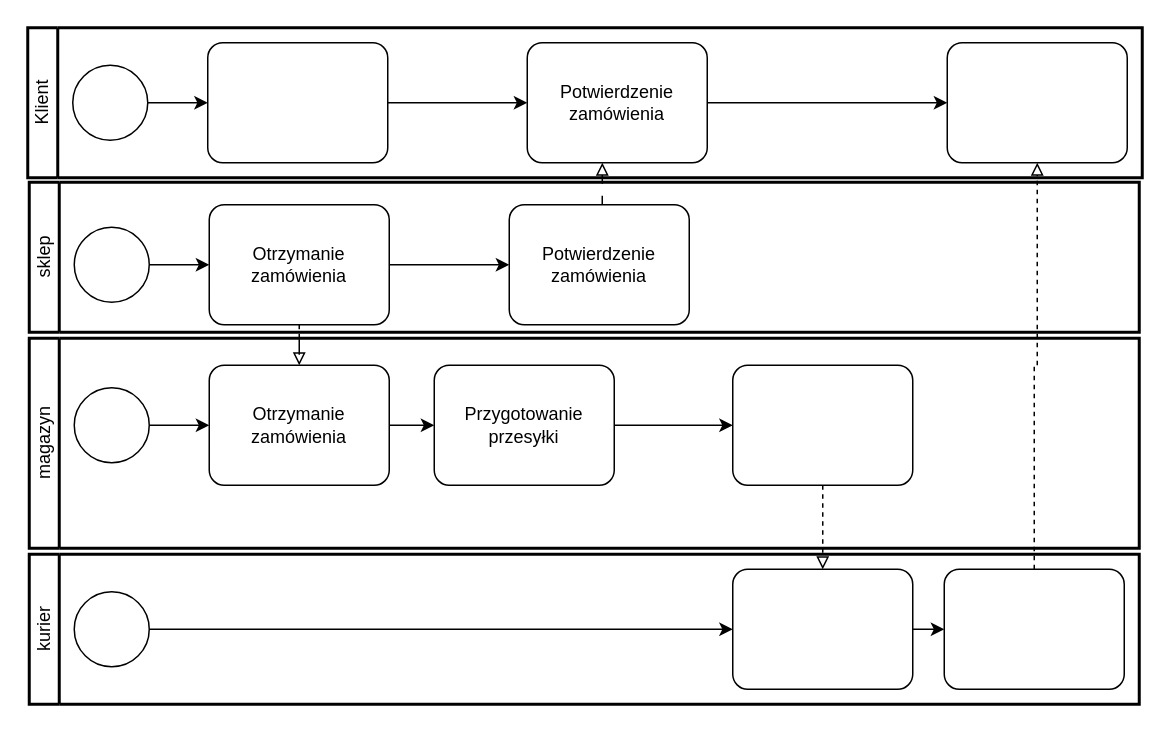
Some shapes in this 1169 by 731 pixel diagram are drawn without their labels. Each missing label, with the centre of its shape:
Odebranie paczki z magazynu: the point at 822,628
Otrzymanie paczki: the point at 1036,102
Przeglądanie oferty i decyzja o zamówieniu: the point at 297,102
Przekazanie paczki: the point at 1033,628
Przekazanie paczki kurierowi: the point at 822,424
